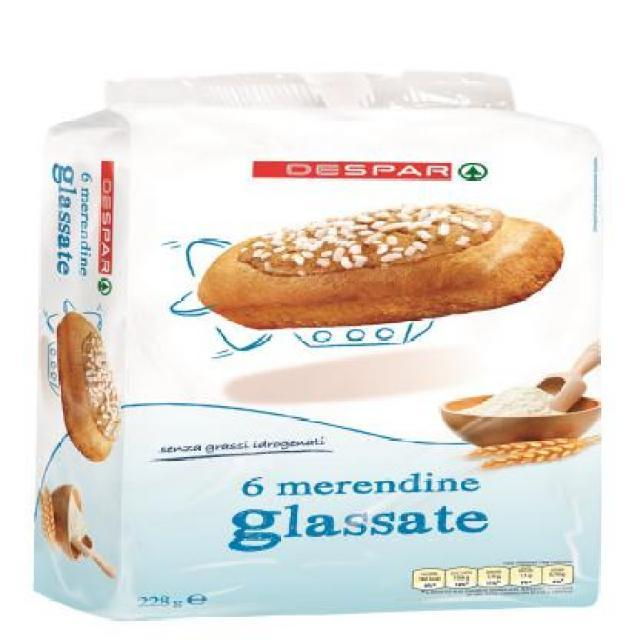Merendine: (36, 103, 616, 629)
Merendine packaged: (193, 202, 564, 331)
